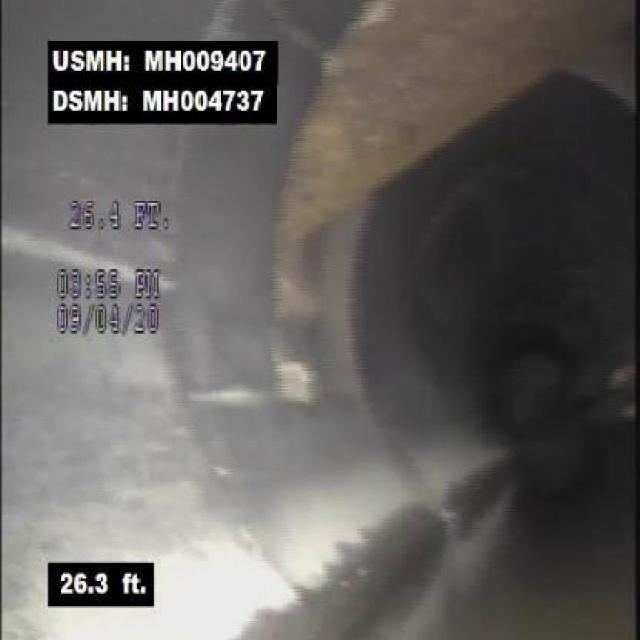Utility intrusion: (277, 4, 638, 244)
